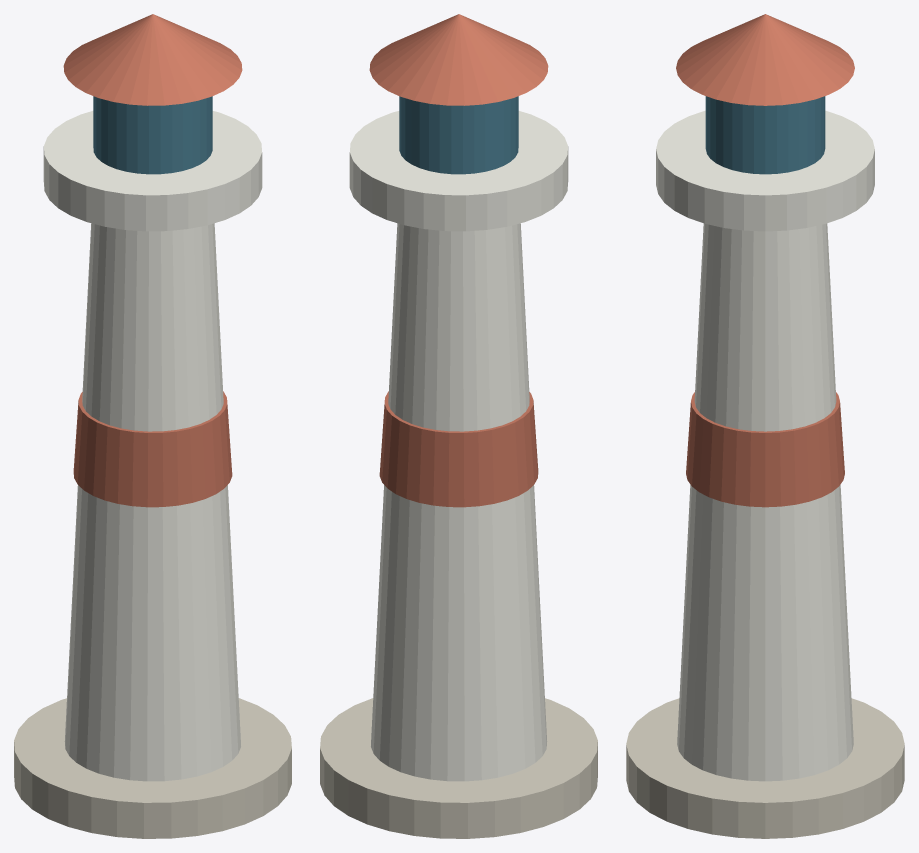
Rendered from lighthouse.glb.
3 renders of one model, left to right at view 1: azimuth 30°, elevation 25°; view 2: azimuth 150°, elevation 25°; view 3: azimuth 270°, elevation 25°, orthographic.
Parts seen in each view (by area): view 1: lighthouse, lighthouse base, gallery, red band, roof, lantern; view 2: lighthouse, lighthouse base, gallery, red band, roof, lantern; view 3: lighthouse, lighthouse base, gallery, red band, roof, lantern.
Boxes of the visible parts, left/top/right/bottom form: lighthouse: left=64, top=223, right=240, bottom=781; lighthouse base: left=14, top=698, right=291, bottom=838; gallery: left=43, top=111, right=262, bottom=231; red band: left=73, top=391, right=232, bottom=507; roof: left=63, top=14, right=242, bottom=105; lantern: left=93, top=96, right=212, bottom=174; lighthouse: left=371, top=223, right=547, bottom=781; lighthouse base: left=320, top=698, right=597, bottom=838; gallery: left=349, top=111, right=568, bottom=231; red band: left=379, top=391, right=538, bottom=507; roof: left=369, top=14, right=548, bottom=105; lantern: left=399, top=96, right=518, bottom=174; lighthouse: left=677, top=223, right=853, bottom=781; lighthouse base: left=626, top=698, right=904, bottom=838; gallery: left=656, top=110, right=874, bottom=231; red band: left=686, top=392, right=844, bottom=507; roof: left=676, top=14, right=854, bottom=105; lantern: left=705, top=96, right=825, bottom=174.
Bounding box in the file's own units: 28 × 85 × 28.
